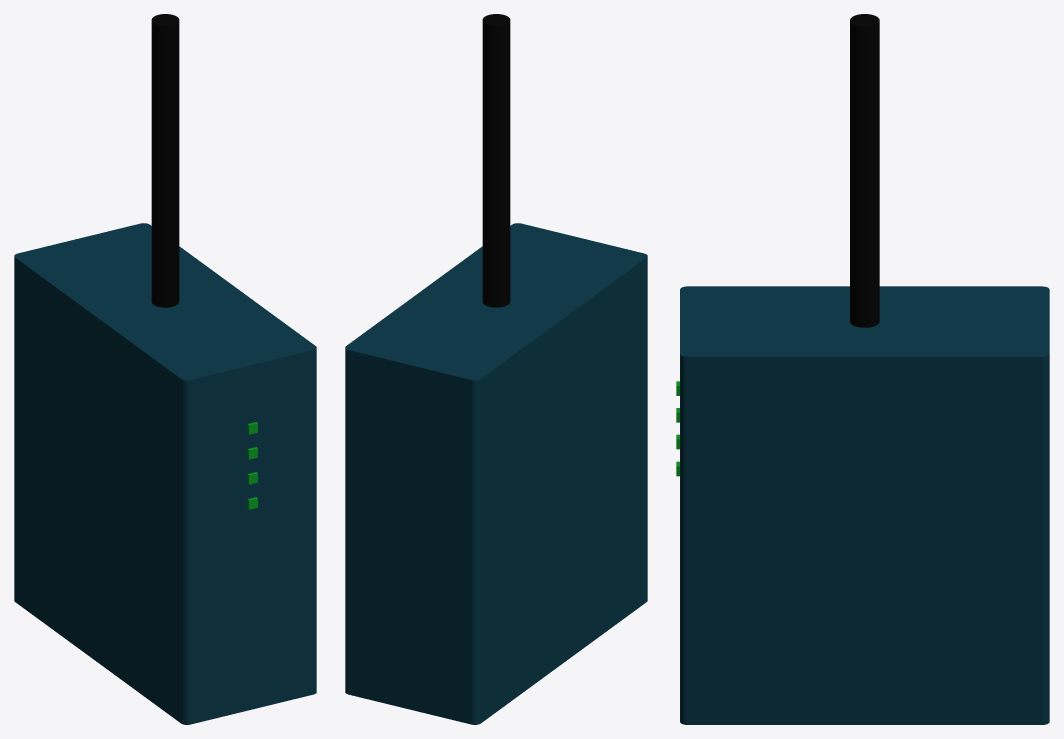
The model's file is gateway.glb.
3 renders of one model, left to right at view 1: azimuth 30°, elevation 25°; view 2: azimuth 150°, elevation 25°; view 3: azimuth 270°, elevation 25°, orthographic. The views are drawn at different scales.
Parts seen in each view (by area): view 1: gateway; view 2: gateway; view 3: gateway.
Boxes of the visible parts, left/top/right/bottom form: gateway: left=14, top=14, right=316, bottom=724; gateway: left=345, top=14, right=647, bottom=724; gateway: left=676, top=14, right=1049, bottom=724.
Bounding box in the file's own units: 0.045 × 0.2 × 0.101.
